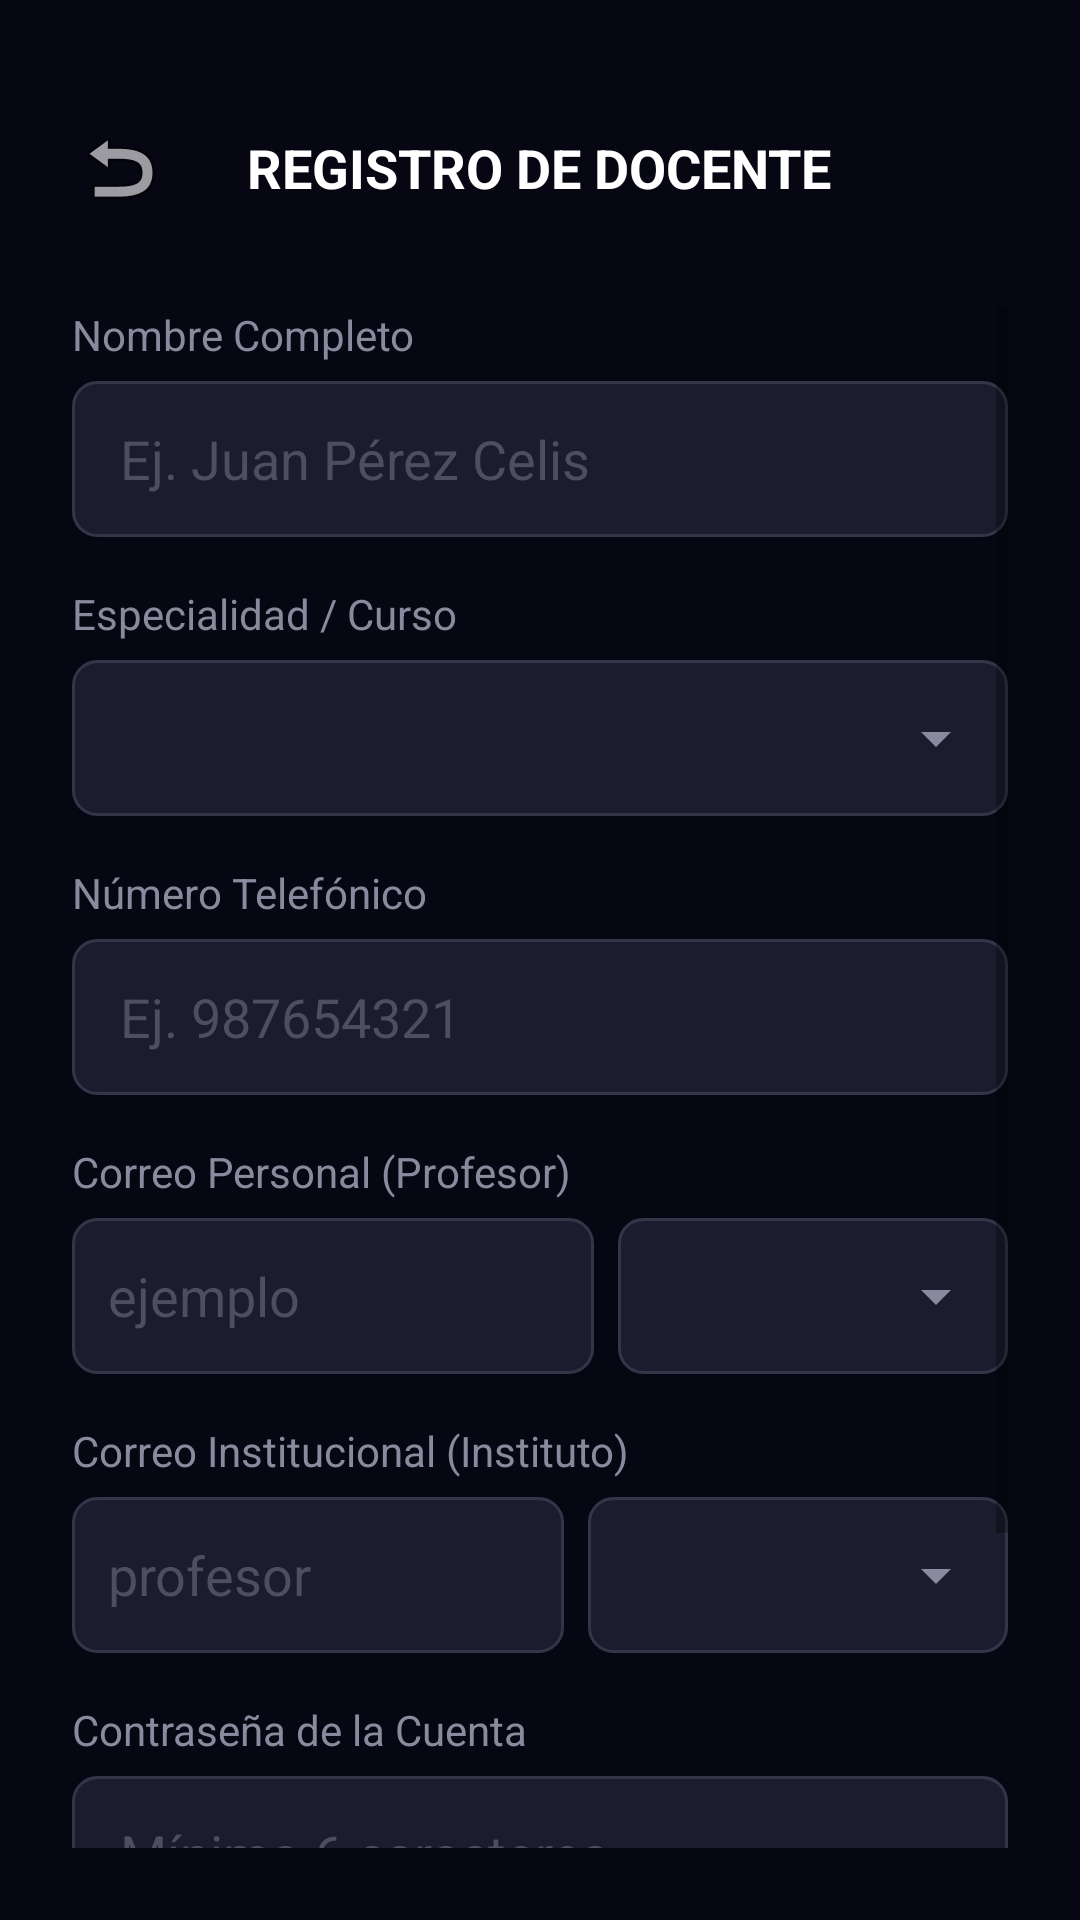

Where icons sit on this 1080 x 1920 app screen, as (x1, y1, x2, y2):
Volver: (90, 140, 153, 197)
